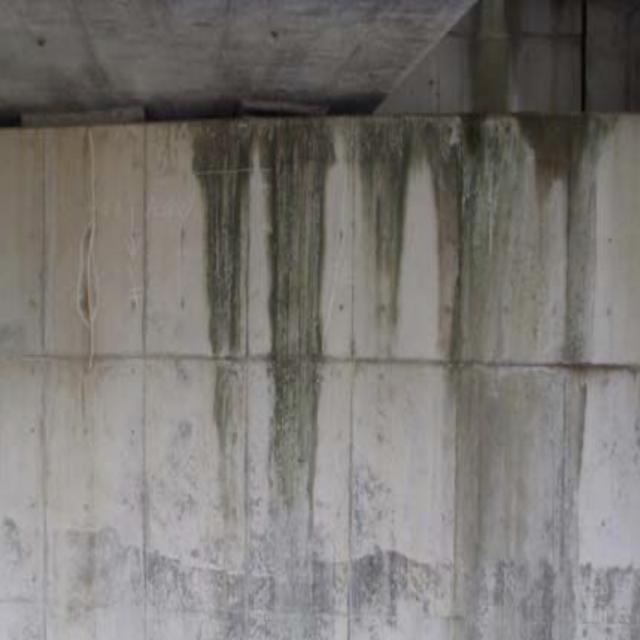leakage: (198, 109, 602, 566)
